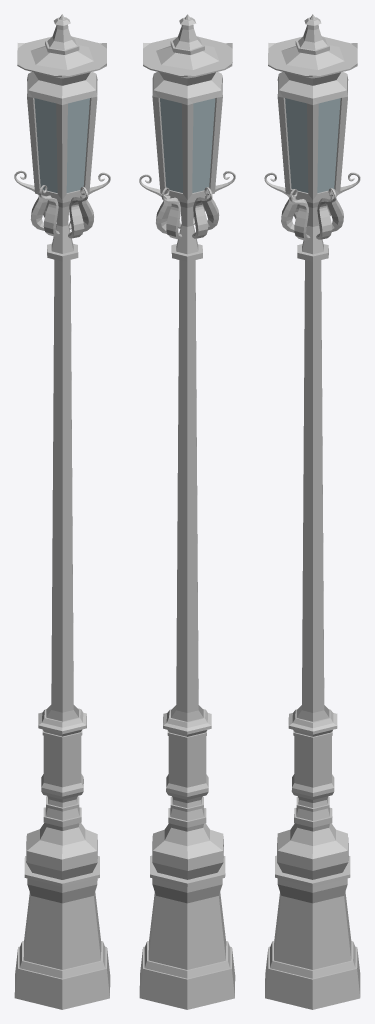
Rendered from lamp2.FBX.
The picture shows the model from 3 angles, left to right: view 1: azimuth 30°, elevation 25°; view 2: azimuth 210°, elevation 25°; view 3: azimuth 270°, elevation 25°; orthographic projection.
Visible parts, largest first — view 1: lamp001; view 2: lamp001; view 3: lamp001.
Part boxes in pixels (left/top/right/bottom): lamp001: left=14, top=14, right=110, bottom=1009; lamp001: left=139, top=14, right=235, bottom=1009; lamp001: left=264, top=14, right=360, bottom=1009.
Size of the model in its own units: 4219 by 41148 by 3683.
